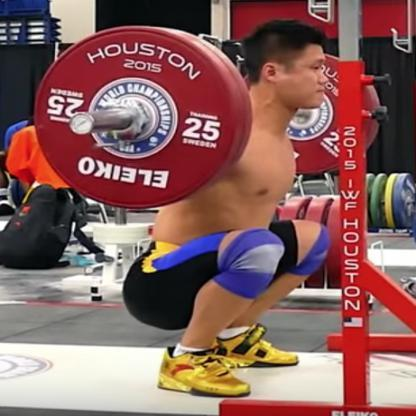barbell: (33, 26, 382, 207)
